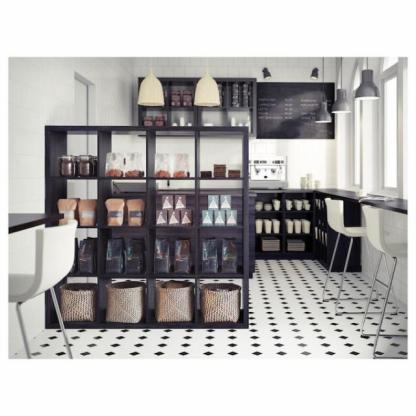Shelf: (38, 122, 254, 336)
